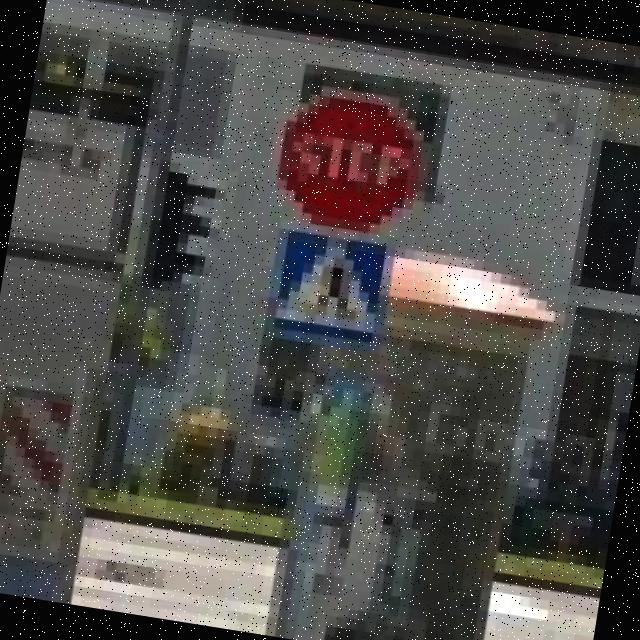Przejscie dla pieszych: (263, 223, 397, 349)
Stop: (266, 85, 432, 245)
